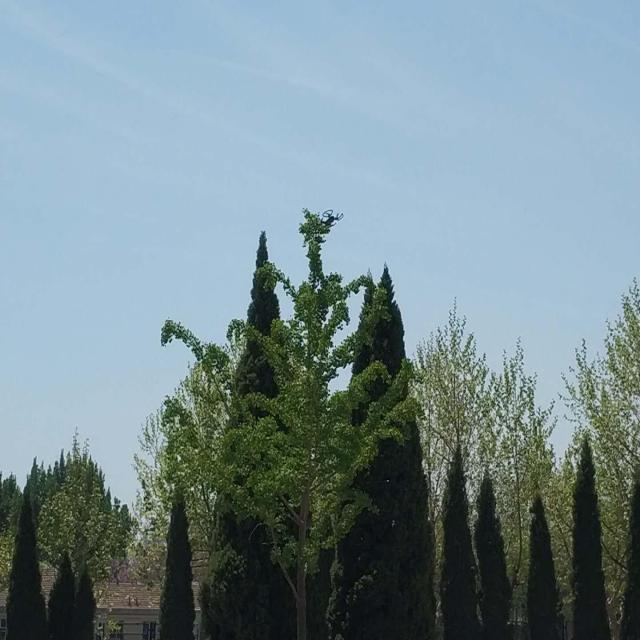drone: (319, 208, 347, 229)
